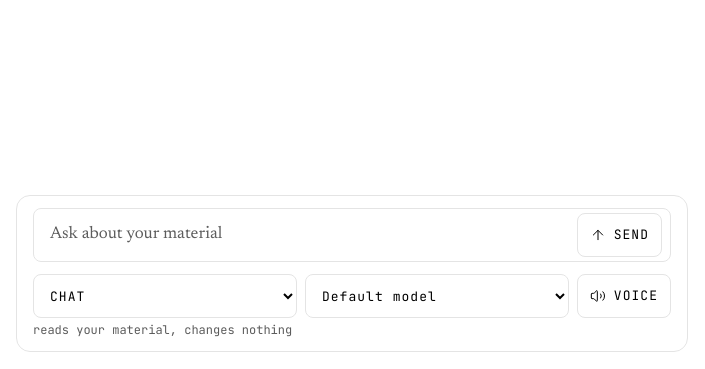
the agent bar › closes on Escape without losing what was typed
The image size is (705, 369).
Type "half a thought" into the text box labelled "Ask about your material" at coordinates (305, 235), box [42,213,569,257]
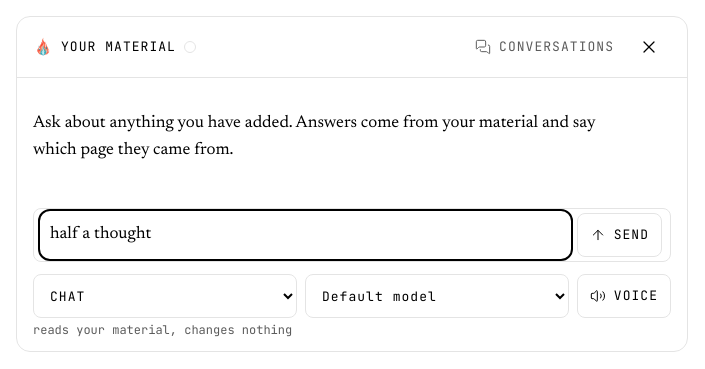
Press Escape
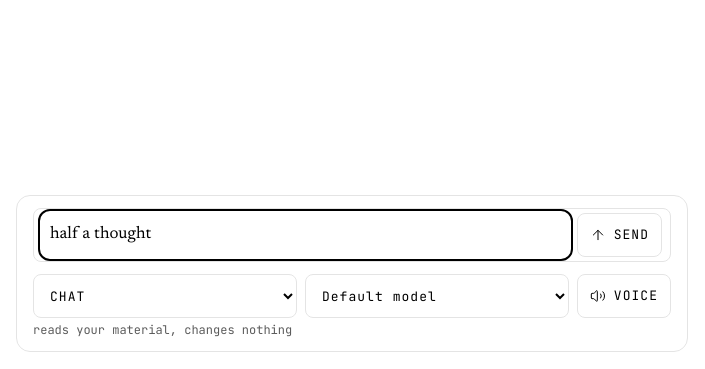
Check: the text "Answers come from your material" is gone
